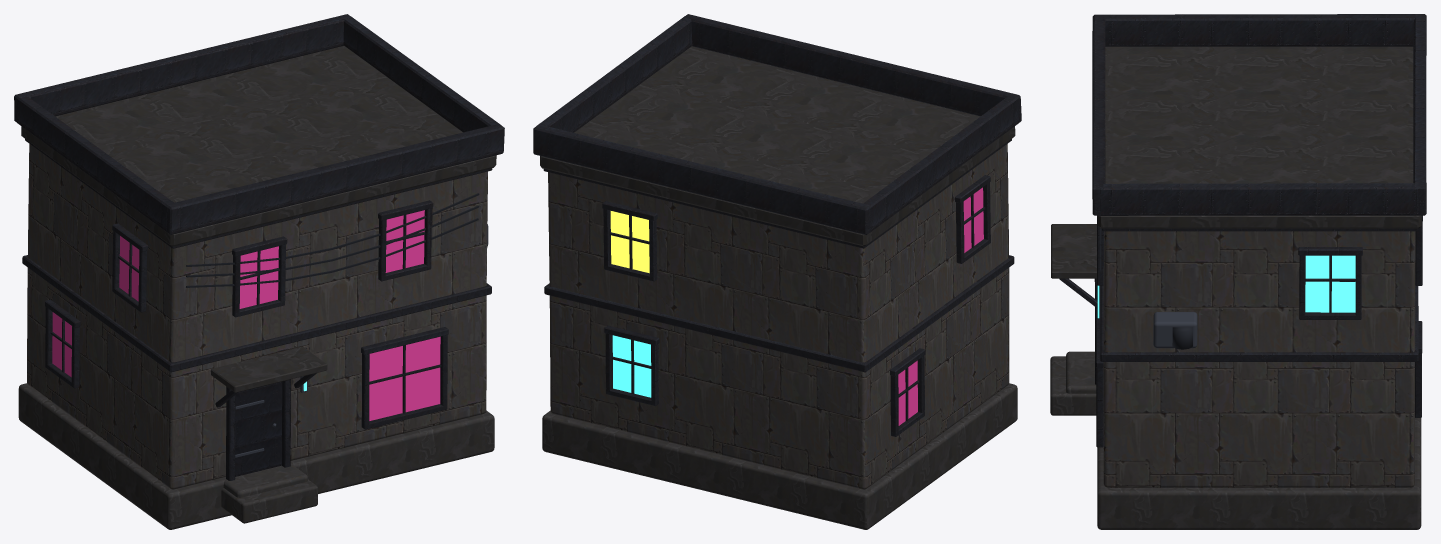
The model's file is cyber_shop.gltf.
3 views of the same model, side by side, from view 1: azimuth 30°, elevation 25°; view 2: azimuth 150°, elevation 25°; view 3: azimuth 270°, elevation 25° (orthographic). The views are drawn at different scales.
Parts seen in each view (by area): view 1: cyber_shop_wall_LOD0, cyber_shop_trim_LOD0, cyber_shop_roof_LOD0, cyber_shop_base_LOD0, cyber_shop_glass_LOD0, cyber_shop_door_LOD0, cyber_shop_metal_LOD0; view 2: cyber_shop_wall_LOD0, cyber_shop_trim_LOD0, cyber_shop_roof_LOD0, cyber_shop_base_LOD0, cyber_shop_glow_FFB84A_LOD0, cyber_shop_glow_4AE0FF_LOD0, cyber_shop_glass_LOD0; view 3: cyber_shop_wall_LOD0, cyber_shop_roof_LOD0, cyber_shop_trim_LOD0, cyber_shop_base_LOD0, cyber_shop_glow_4AE0FF_LOD0, cyber_shop_metal_LOD0.
Boxes of the visible parts, left/top/right/bottom form: cyber_shop_wall_LOD0: left=27, top=144, right=487, bottom=489; cyber_shop_trim_LOD0: left=14, top=14, right=504, bottom=480; cyber_shop_roof_LOD0: left=21, top=46, right=496, bottom=392; cyber_shop_base_LOD0: left=18, top=383, right=494, bottom=529; cyber_shop_glass_LOD0: left=52, top=210, right=440, bottom=420; cyber_shop_door_LOD0: left=235, top=381, right=282, bottom=476; cyber_shop_metal_LOD0: left=186, top=193, right=488, bottom=457; cyber_shop_wall_LOD0: left=548, top=144, right=1009, bottom=489; cyber_shop_trim_LOD0: left=533, top=14, right=1021, bottom=436; cyber_shop_roof_LOD0: left=540, top=46, right=1015, bottom=246; cyber_shop_base_LOD0: left=542, top=383, right=1017, bottom=529; cyber_shop_glow_FFB84A_LOD0: left=610, top=211, right=649, bottom=273; cyber_shop_glow_4AE0FF_LOD0: left=612, top=335, right=651, bottom=397; cyber_shop_glass_LOD0: left=898, top=187, right=983, bottom=425; cyber_shop_wall_LOD0: left=1103, top=231, right=1415, bottom=487; cyber_shop_roof_LOD0: left=1051, top=46, right=1421, bottom=278; cyber_shop_trim_LOD0: left=1059, top=14, right=1426, bottom=447; cyber_shop_base_LOD0: left=1050, top=351, right=1421, bottom=529; cyber_shop_glow_4AE0FF_LOD0: left=1305, top=255, right=1355, bottom=312; cyber_shop_metal_LOD0: left=1099, top=228, right=1197, bottom=349.
Size of what is drawn, in the model's own units: 9.02 by 7.84 by 7.7.
10 materials, 5 textured.
